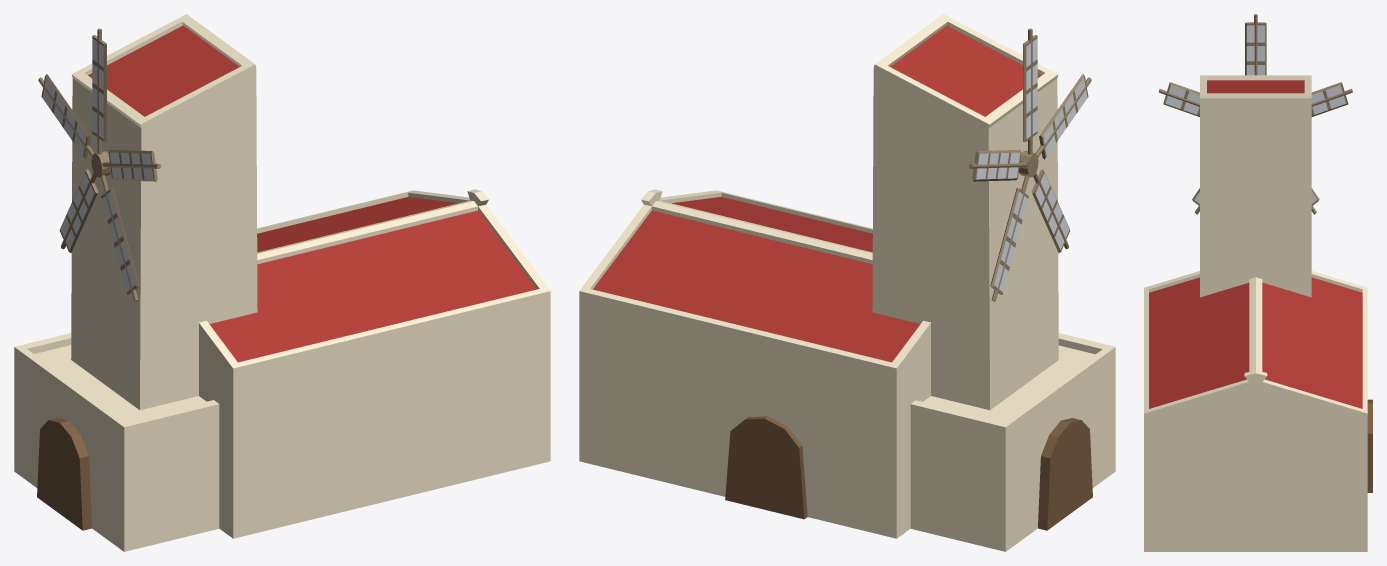
File: Mill.fbx
The picture shows the model from 3 angles, left to right: view 1: azimuth 30°, elevation 25°; view 2: azimuth 150°, elevation 25°; view 3: azimuth 270°, elevation 25°; orthographic projection. The views are drawn at different scales.
Visible parts, largest first — view 1: Mill; view 2: Mill; view 3: Mill.
Part boxes in pixels (x1,y1,x2,y2): Mill: (14,14,550,551); Mill: (579,14,1115,551); Mill: (1144,14,1372,551).
Size of the model in its own units: 3510 by 3771 by 2027.
